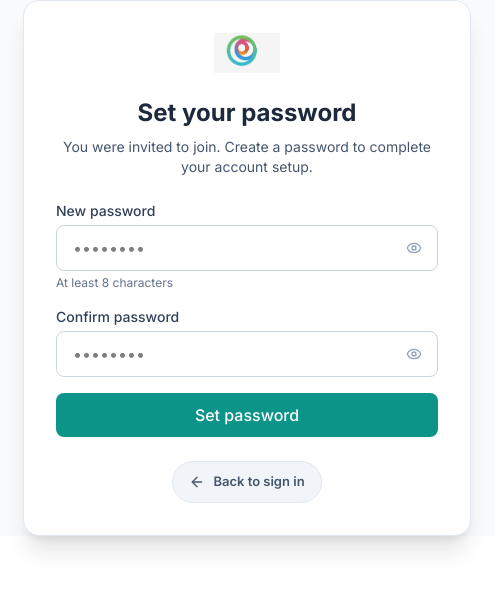
Scenario: SetPassword › shows error when fields are empty
What coordinates should you click on to do the following:
click the button "Set password"
I would click on:
 (247, 415)
Its box is [56,393,438,437].
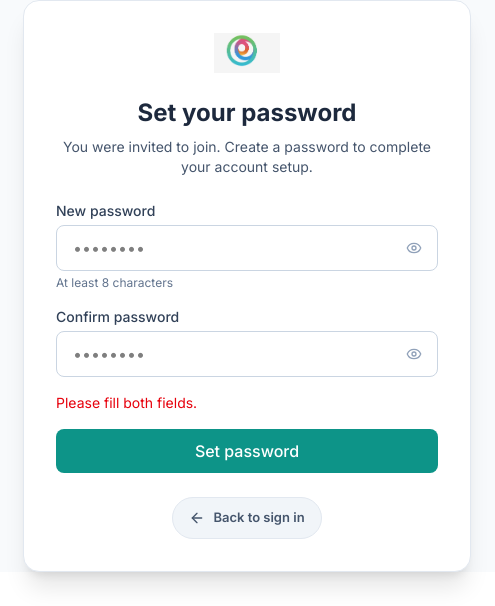
Expected: the text "Please fill both fields." is shown, [56,394,197,411]
